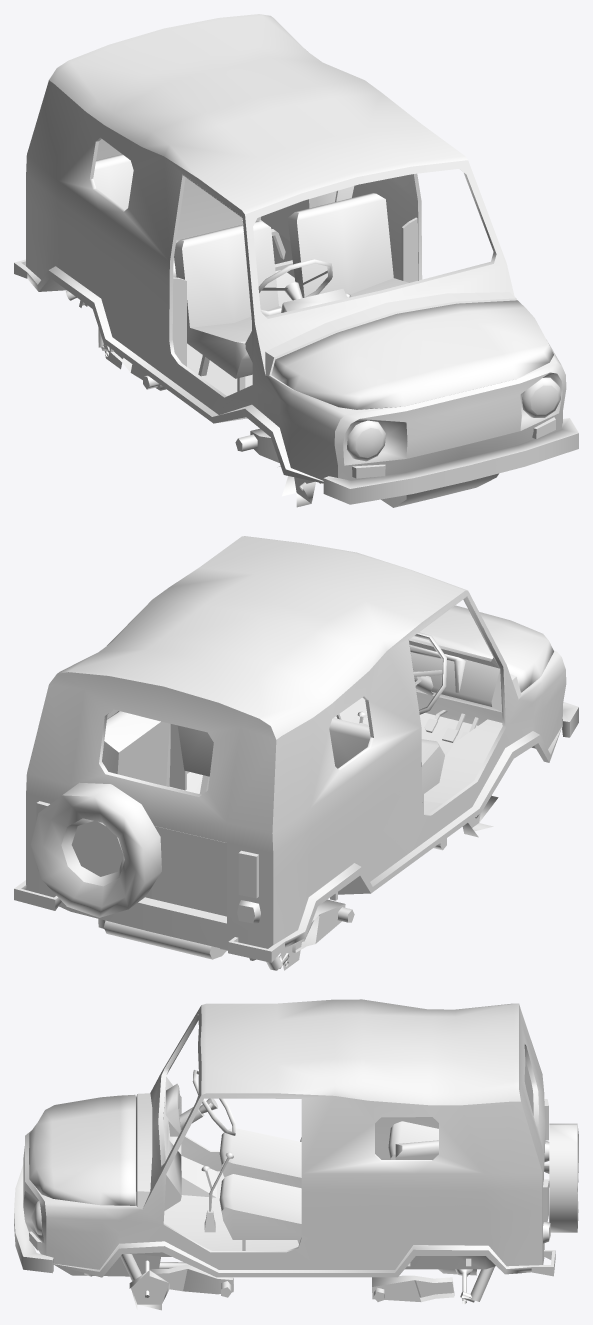
3 renders of one model, top to bottom at view 1: azimuth 30°, elevation 25°; view 2: azimuth 150°, elevation 25°; view 3: azimuth 270°, elevation 25°, orthographic. The views are drawn at different scales.
Bounding box in the file's own units: 1.54 × 1.58 × 3.42.
Materials: 1 (1 with a texture image).
